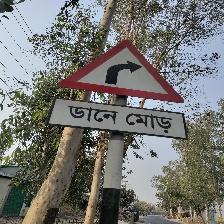Right-turn: (50, 39, 188, 143)
